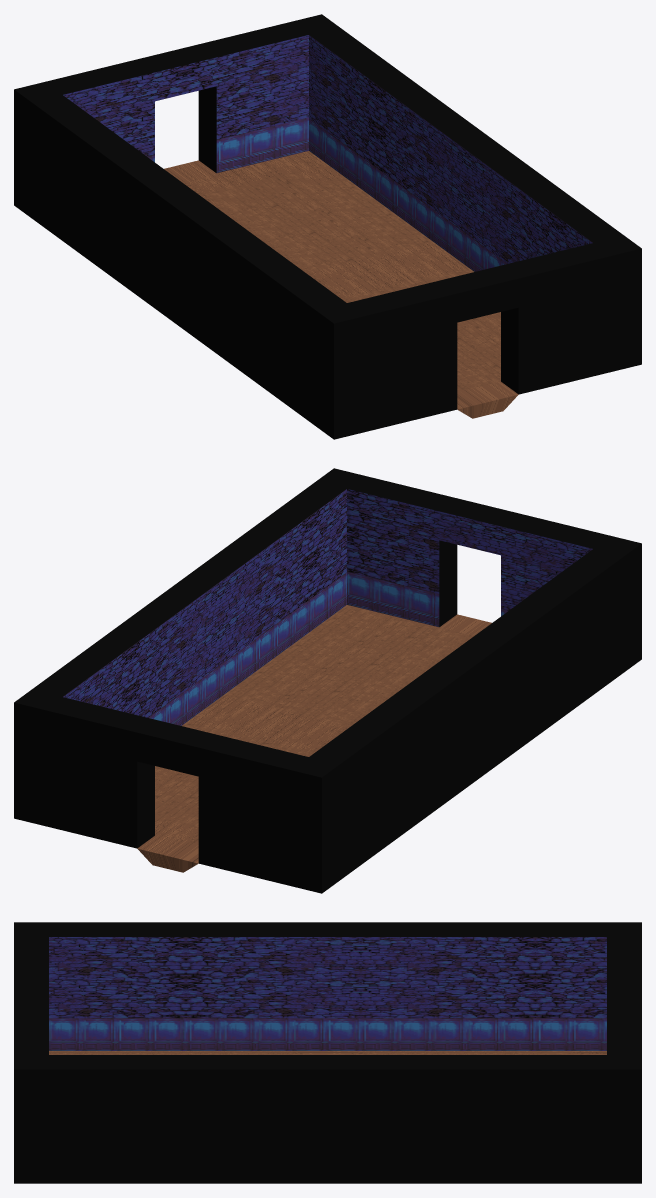
Rendered from ROOM_2.fbx.
The picture shows the model from 3 angles, top to bottom: view 1: azimuth 30°, elevation 25°; view 2: azimuth 150°, elevation 25°; view 3: azimuth 270°, elevation 25°; orthographic projection.
Visible parts, largest first — view 1: WALL_02, FLOOR_02; view 2: WALL_02, FLOOR_02; view 3: WALL_02, FLOOR_02.
Boxes of the visible parts, left/top/right/bottom form: WALL_02: left=14, top=14, right=641, bottom=439; FLOOR_02: left=164, top=151, right=518, bottom=418; WALL_02: left=14, top=468, right=641, bottom=893; FLOOR_02: left=137, top=605, right=491, bottom=872; WALL_02: left=14, top=922, right=641, bottom=1183; FLOOR_02: left=49, top=1051, right=606, bottom=1054.
Bounding box in the file's own units: 2500 × 1000 × 4500.
